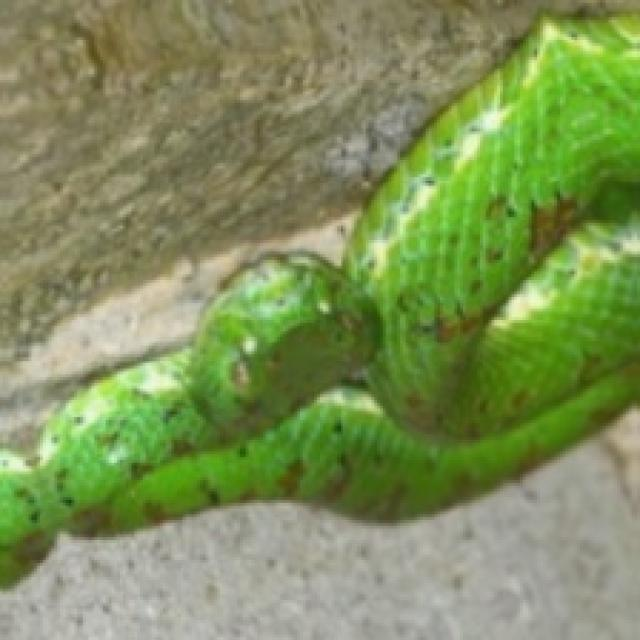philippine pitviper: (0, 14, 637, 583)
